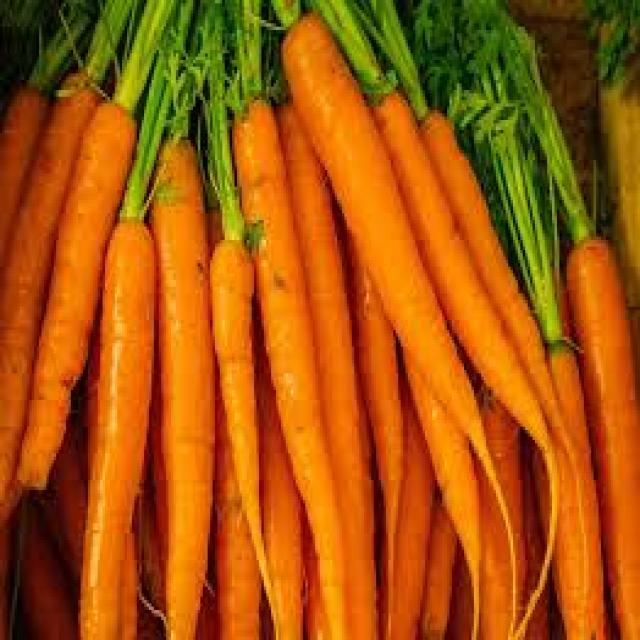Carrot: (155, 140, 215, 640)
